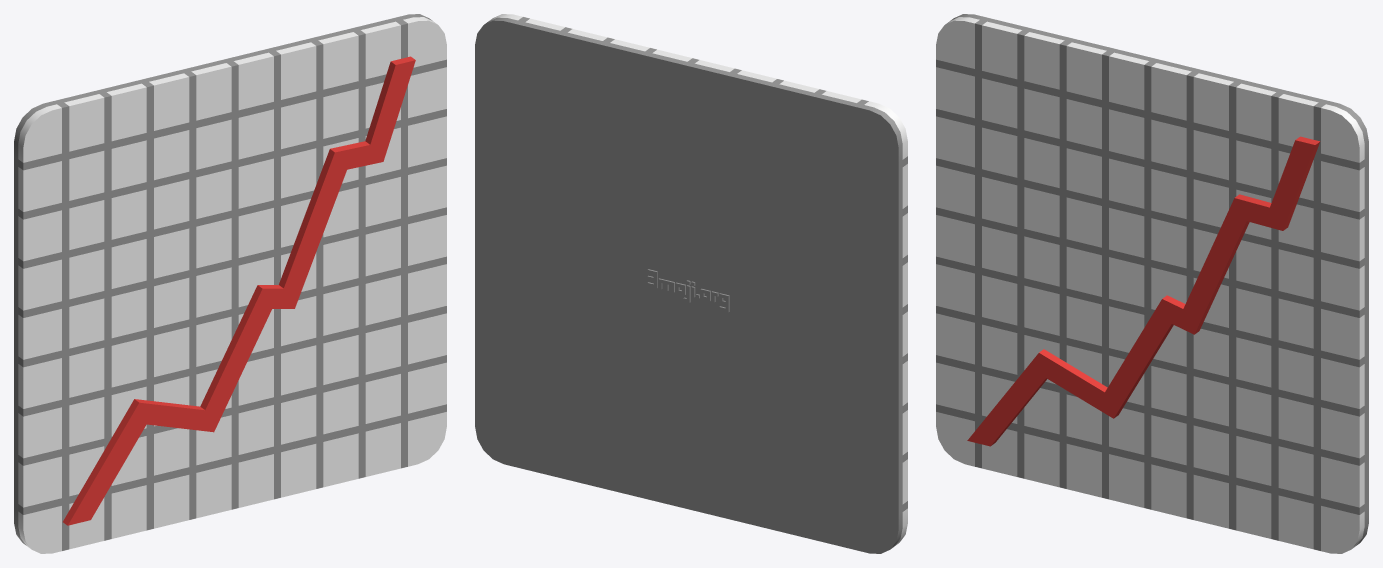
The model's file is chart_increasing.gltf.
3 renders of one model, left to right at view 1: azimuth 30°, elevation 25°; view 2: azimuth 150°, elevation 25°; view 3: azimuth 330°, elevation 25°, orthographic.
Parts seen in each view (by area): view 1: Plane.339; view 2: Plane.339; view 3: Plane.339.
Part boxes in pixels (bbox=[...]): Plane.339: bbox=[14, 14, 446, 553]; Plane.339: bbox=[475, 14, 907, 553]; Plane.339: bbox=[936, 14, 1368, 553].
Bounding box in the file's own units: 2.2 × 2.2 × 0.1508.
1 material, 1 textured.
